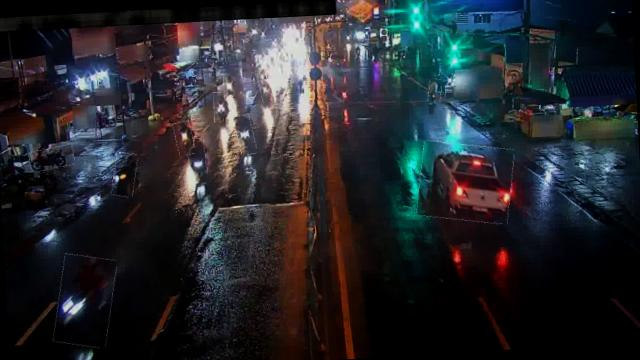Bike: (52, 253, 118, 348), (111, 152, 138, 197), (29, 146, 74, 170), (187, 137, 207, 184), (235, 114, 256, 154), (173, 121, 194, 156), (212, 92, 228, 124), (336, 80, 351, 111), (427, 78, 442, 104), (260, 78, 274, 103), (223, 74, 235, 96)
Car: (416, 139, 516, 226)
